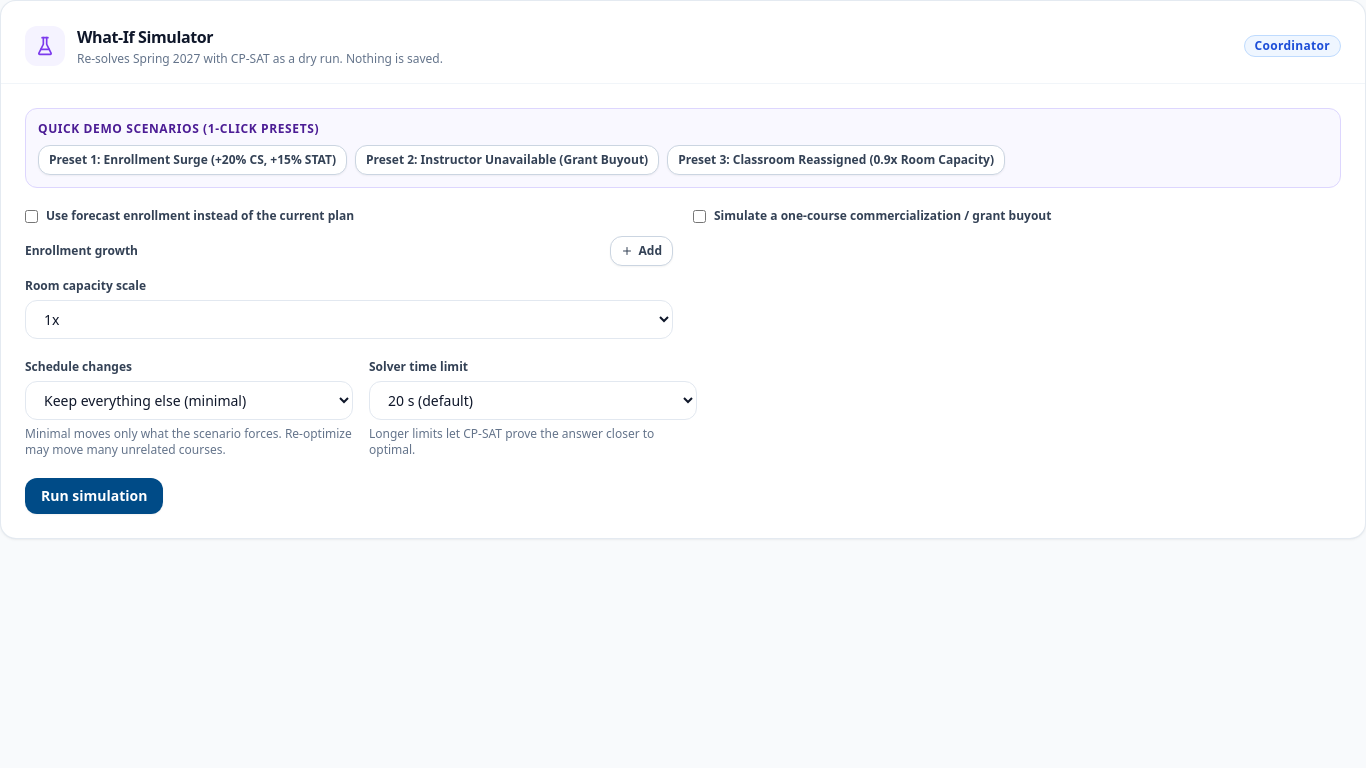
Test: WhatIfPanel › shows the diagnosis for an infeasible scenario and hides the metrics table
The width and height of the screenshot is (1366, 768).
Click the button with test id "run-scenario": [94, 496] box x1=25 y1=478 x2=163 y2=514
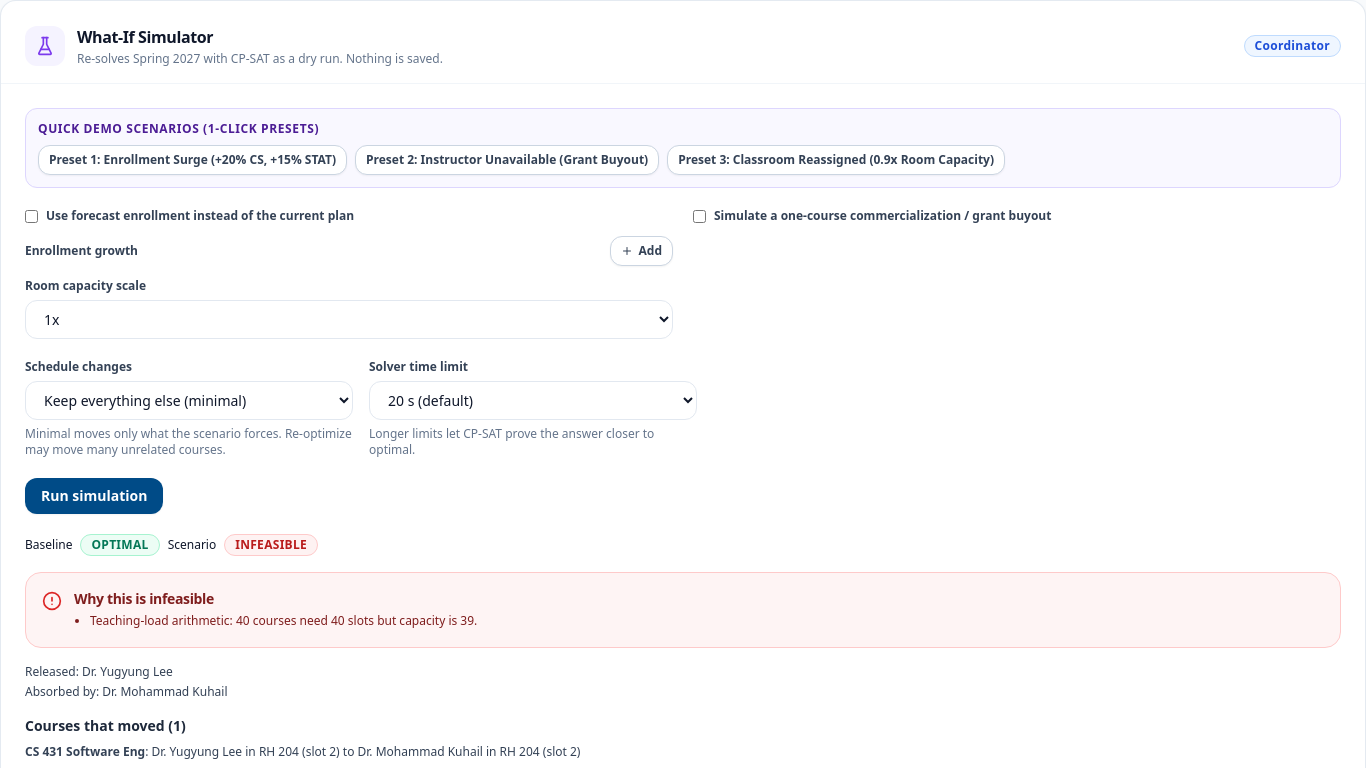
Check: the message with test id "diagnosis" shows "capacity is 39", box x1=90 y1=612 x2=477 y2=629
